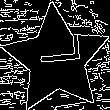L_W: (31, 41, 82, 77)
